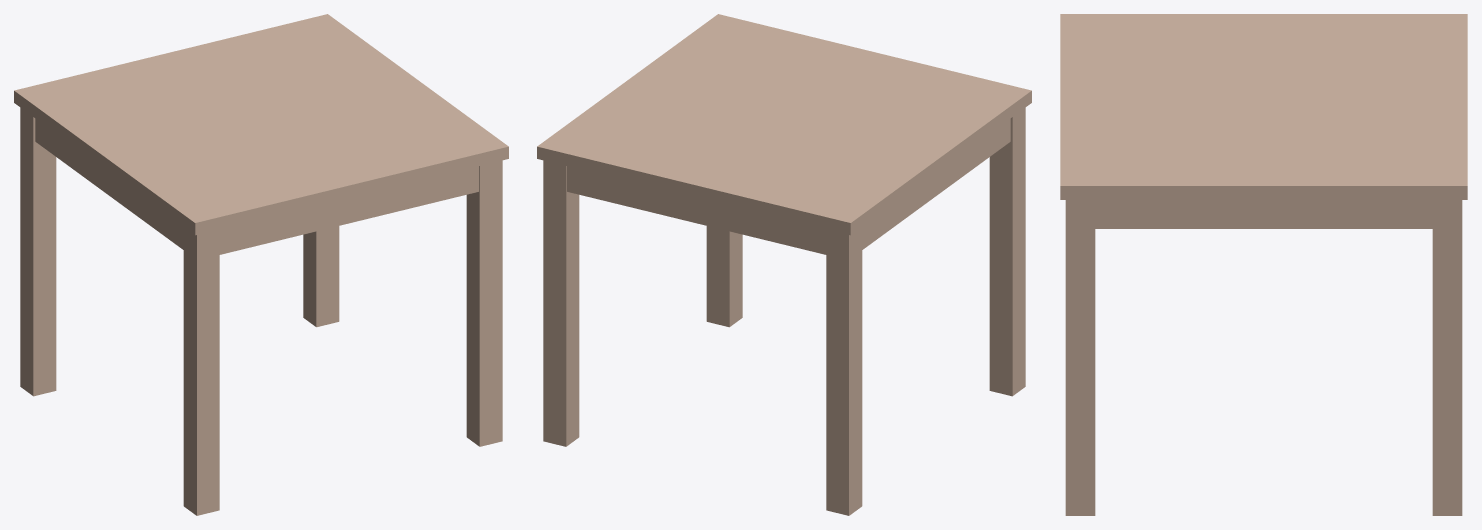
The model's file is masa.fbx.
The picture shows the model from 3 angles, left to right: view 1: azimuth 30°, elevation 25°; view 2: azimuth 150°, elevation 25°; view 3: azimuth 270°, elevation 25°; orthographic projection. The views are drawn at different scales.
Parts seen in each view (by area): view 1: square_table; view 2: square_table; view 3: square_table.
Part boxes in pixels (bbox=[...]): square_table: bbox=[14, 14, 508, 515]; square_table: bbox=[537, 14, 1031, 515]; square_table: bbox=[1060, 14, 1467, 515].
Size of the model in its own units: 80 by 72 by 80.
